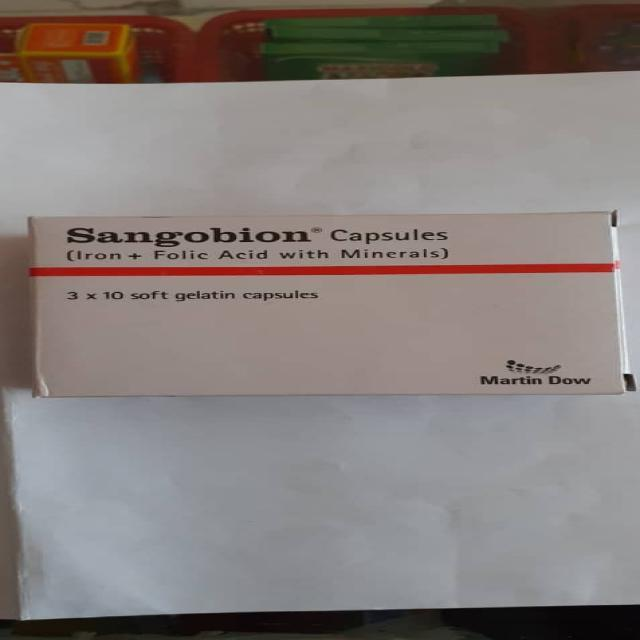drug-name: (66, 226, 320, 247)
